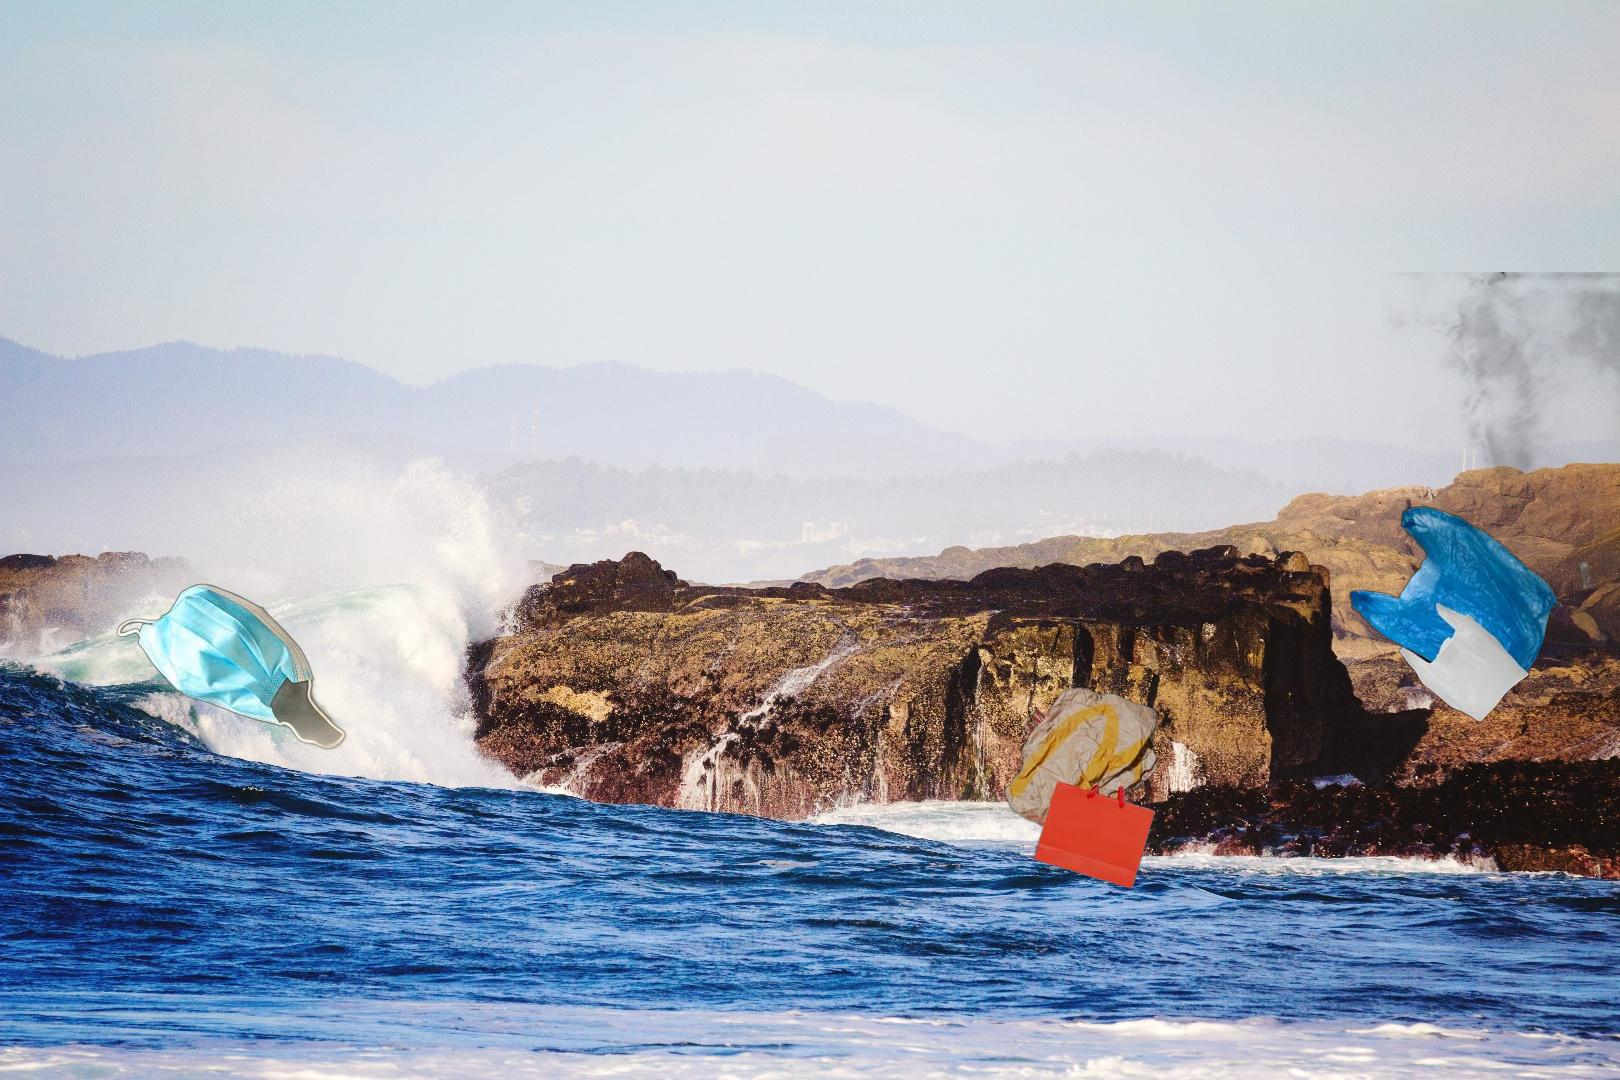paper: (1270, 272, 1620, 656)
paper-bag: (925, 685, 1161, 891)
plastic-bag: (1348, 503, 1562, 723)
trash: (115, 581, 350, 752)
